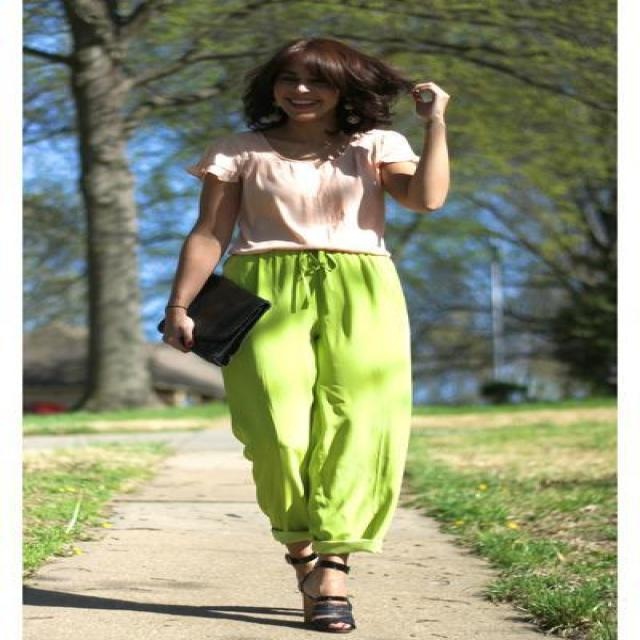bag: (187, 272, 269, 365)
pants: (218, 248, 424, 554)
shirt: (174, 122, 420, 284)
shoe: (288, 576, 354, 633)
